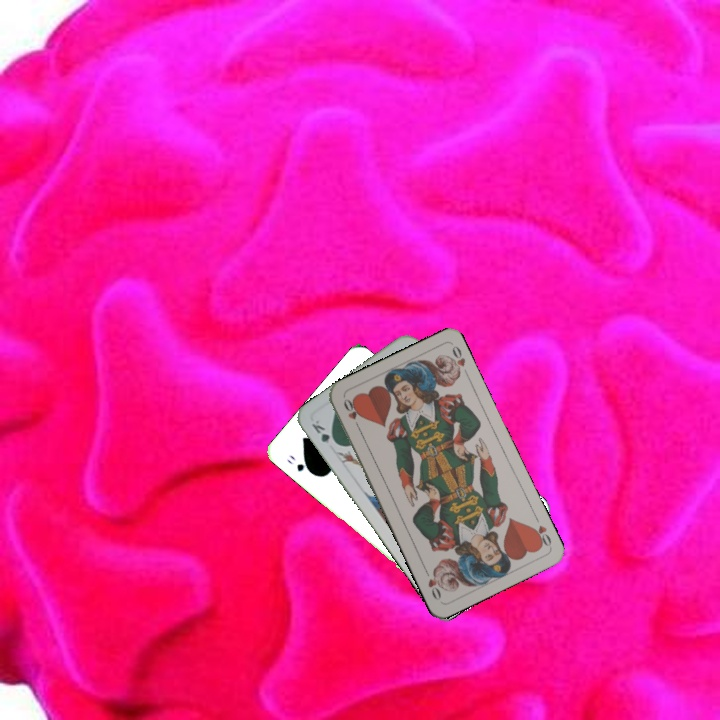GK: (307, 416, 340, 448)
GO: (283, 450, 316, 477)
HO: (527, 511, 554, 550), (339, 394, 363, 432)
